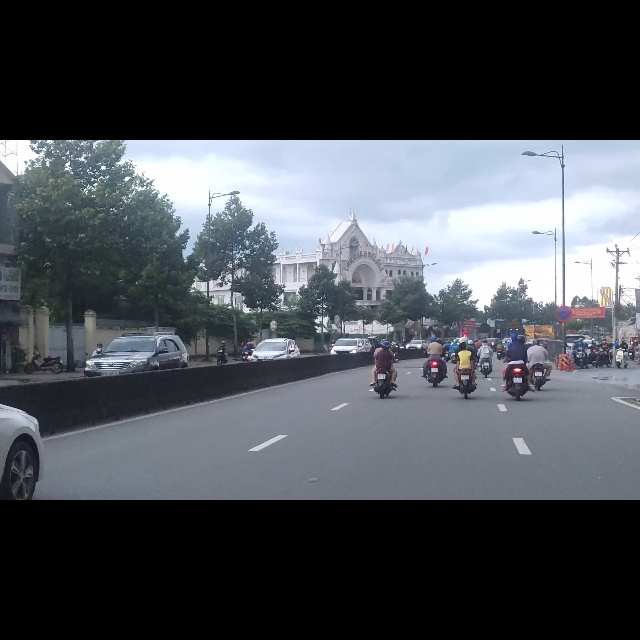bien_cam: (556, 296, 571, 321)
